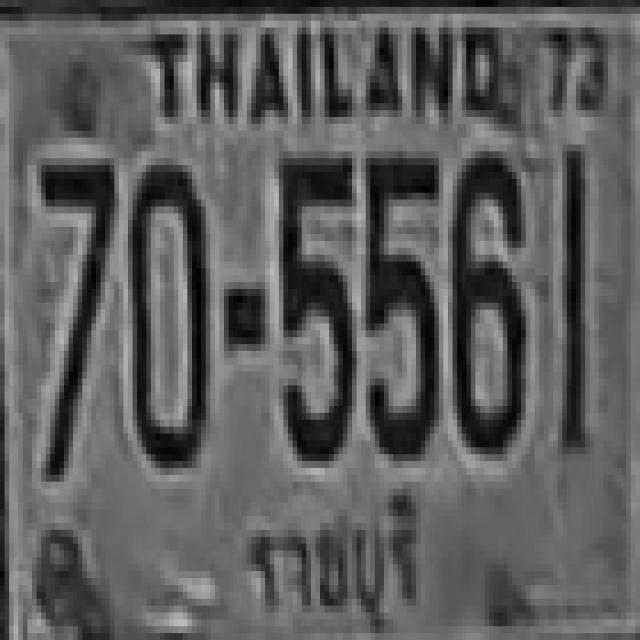0: (128, 158, 206, 461)
1: (558, 144, 580, 440)
5: (274, 152, 352, 454), (361, 152, 434, 454)
6: (448, 148, 521, 451)
7: (36, 155, 110, 464), (36, 155, 110, 354)
Ratchaburi: (237, 484, 439, 640)
